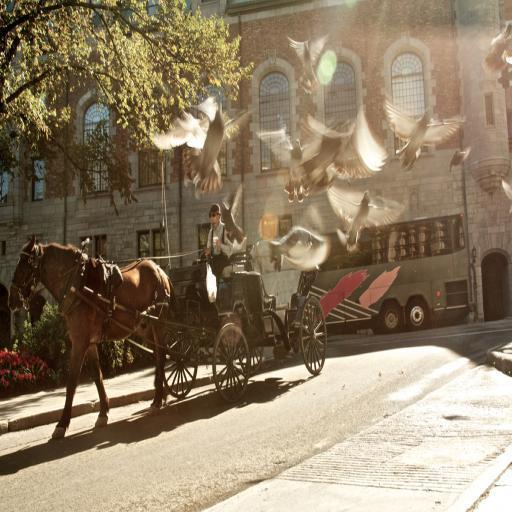horse: (7, 234, 181, 438)
